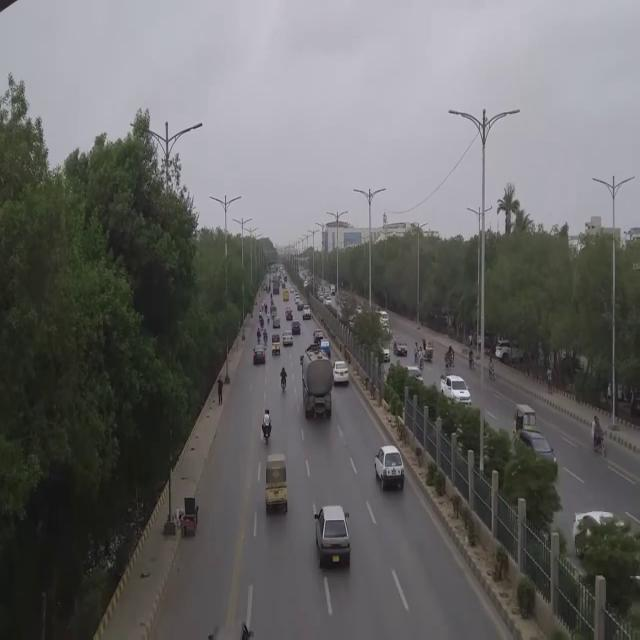car: (313, 502, 354, 573), (516, 426, 562, 483), (373, 439, 407, 495), (440, 369, 472, 412), (333, 357, 351, 388), (253, 342, 266, 368), (394, 338, 409, 358), (282, 329, 294, 348), (319, 338, 331, 356), (314, 326, 324, 343), (291, 321, 302, 336), (303, 303, 311, 322), (285, 306, 294, 321), (273, 315, 281, 331)
motorbike: (590, 413, 608, 456), (262, 405, 274, 444), (486, 358, 497, 385), (280, 360, 288, 397), (468, 348, 476, 371), (448, 346, 456, 368), (442, 350, 450, 372), (418, 347, 425, 370), (413, 340, 419, 364), (263, 325, 268, 349), (256, 328, 262, 344), (260, 316, 264, 330), (261, 298, 264, 316), (266, 311, 270, 324)
truck: (298, 344, 335, 420)
